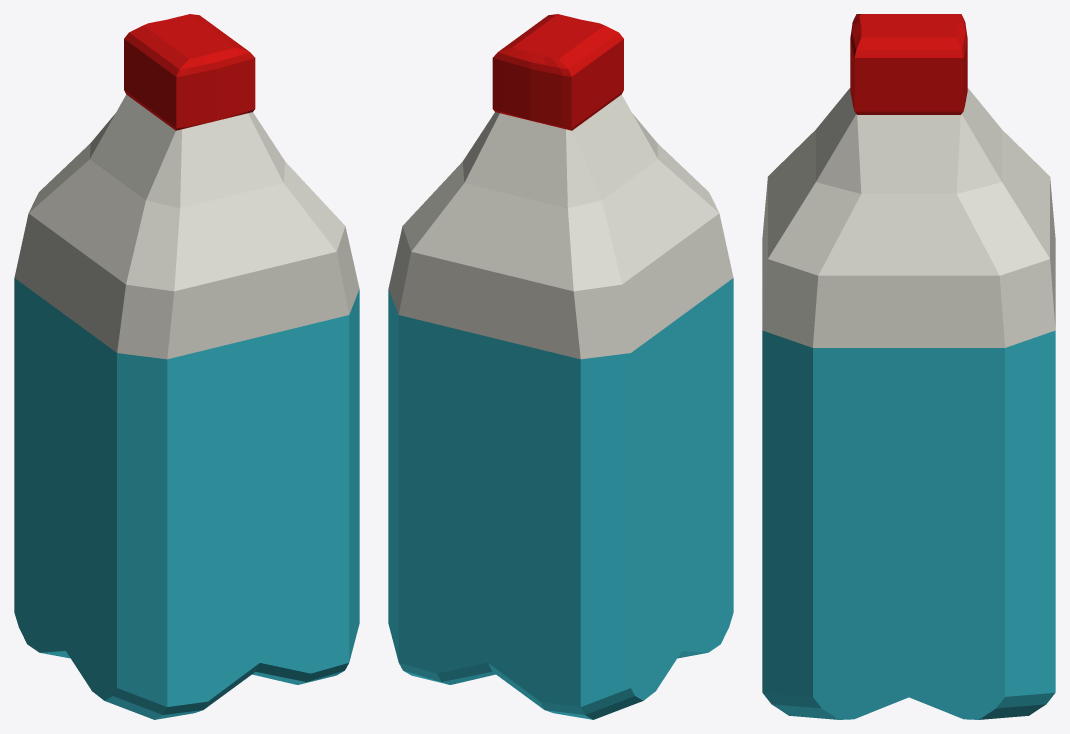
Rendered from bottlewater.fbx.
3 views of the same model, side by side, from view 1: azimuth 30°, elevation 25°; view 2: azimuth 150°, elevation 25°; view 3: azimuth 270°, elevation 25° (orthographic). The views are drawn at different scales.
Parts seen in each view (by area): view 1: Cube; view 2: Cube; view 3: Cube.
Boxes of the visible parts, x1=… form: Cube: x1=14, y1=14, x2=359, y2=719; Cube: x1=388, y1=14, x2=733, y2=719; Cube: x1=762, y1=14, x2=1055, y2=719.
Size of the model in its own units: 1000 by 2405 by 984.
